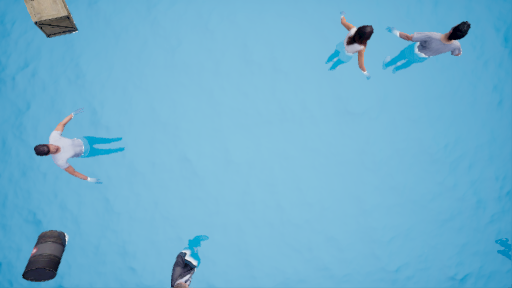person: (40, 114, 132, 191), (389, 24, 473, 88), (325, 11, 377, 86), (167, 237, 214, 288)
